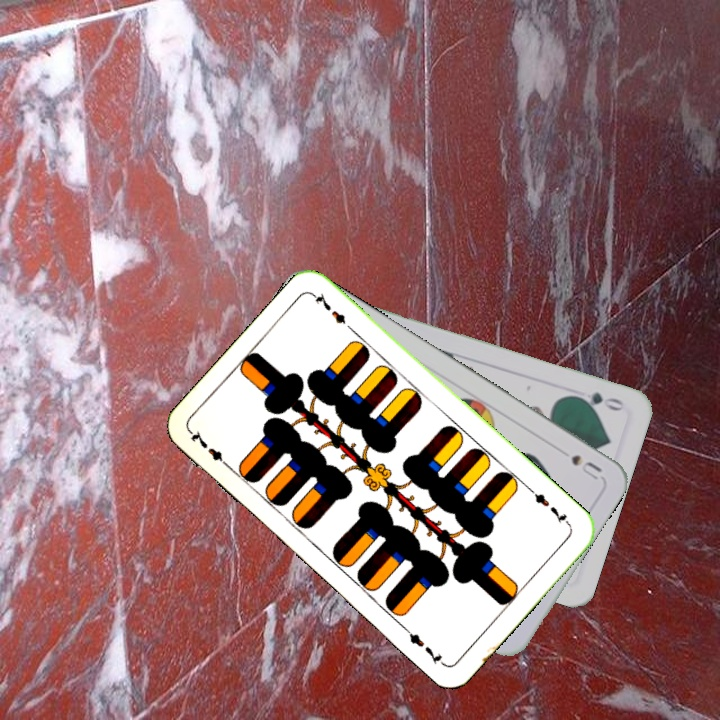E7: (525, 484, 573, 529), (186, 427, 234, 472)
GO: (568, 388, 626, 414)
SU: (567, 450, 605, 483)
